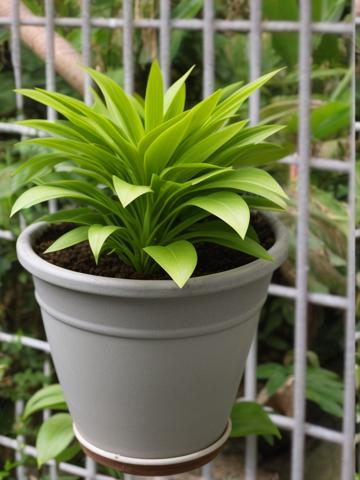pottedplant: (10, 63, 288, 476)
